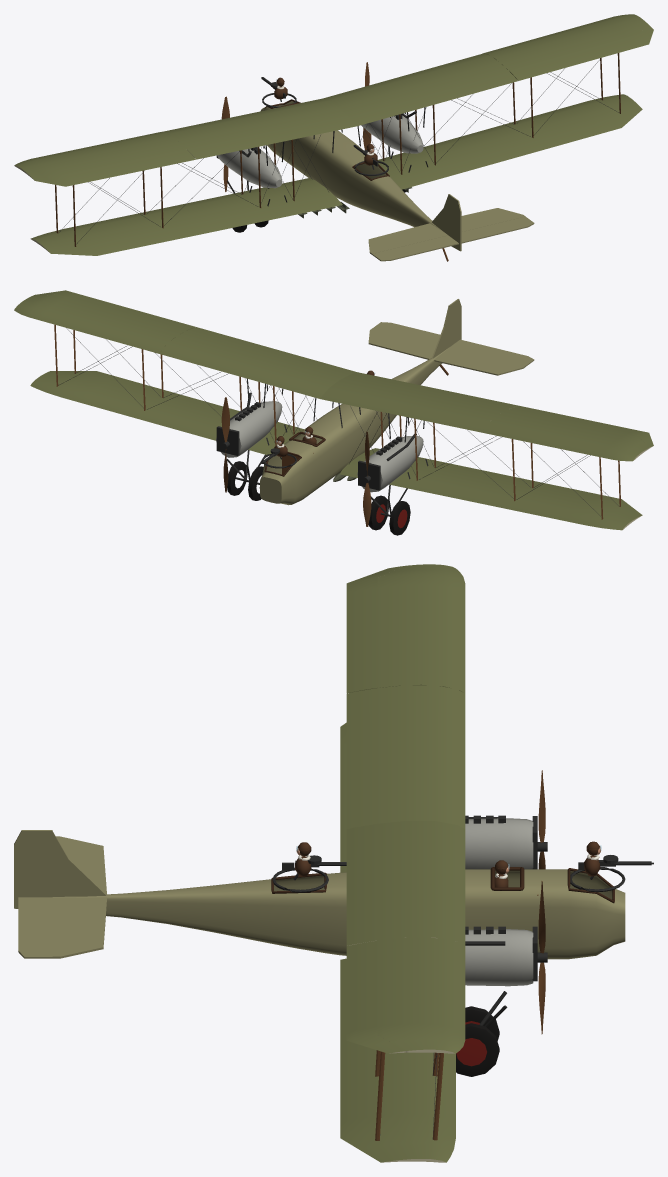
Rendered from aeg_giv.glb.
3 views of the same model, one above another, from view 1: azimuth 30°, elevation 25°; view 2: azimuth 150°, elevation 25°; view 3: azimuth 270°, elevation 25° (orthographic). The views are drawn at different scales.
Parts seen in each view (by area): view 1: Wing_Upper_R, Wing_Lower_L, Wing_Upper_L, Wing_Lower_R, Fuselage, Aileron_R, Aileron_L, Struts, Elevator, Engine_L, Engine_R, Wires (+3 smaller); view 2: Wing_Upper_R, Wing_Upper_L, Wing_Lower_L, Fuselage, Wing_Lower_R, Engine_R, Engine_L, Wheels, Struts, Elevator, Wires, Stabilizer_L (+8 smaller); view 3: Wing_Upper_L, Wing_Upper_R, Fuselage, Wing_Lower_R, Engine_R, Aileron_L, Engine_L, Aileron_R, Stabilizer_R, Rudder, Wheels, Elevator (+6 smaller).
Boxes of the visible parts, bbox=[...] form: Wing_Upper_R: bbox=[323, 14, 648, 125]; Wing_Lower_L: bbox=[30, 178, 342, 255]; Wing_Upper_L: bbox=[14, 98, 356, 176]; Wing_Lower_R: bbox=[377, 94, 642, 189]; Fuselage: bbox=[261, 101, 447, 234]; Aileron_R: bbox=[509, 24, 653, 80]; Aileron_L: bbox=[29, 149, 195, 186]; Struts: bbox=[55, 53, 620, 246]; Elevator: bbox=[372, 216, 534, 261]; Engine_L: bbox=[216, 141, 287, 206]; Engine_R: bbox=[361, 107, 428, 172]; Wires: bbox=[59, 58, 619, 244]; Wing_Upper_R: bbox=[14, 294, 356, 398]; Wing_Upper_L: bbox=[321, 372, 648, 461]; Wing_Lower_L: bbox=[340, 448, 642, 530]; Fuselage: bbox=[259, 348, 448, 505]; Wing_Lower_R: bbox=[30, 371, 303, 455]; Engine_R: bbox=[216, 378, 287, 457]; Engine_L: bbox=[357, 413, 428, 492]; Wheels: bbox=[227, 461, 410, 535]; Struts: bbox=[54, 324, 620, 519]; Elevator: bbox=[372, 322, 534, 366]; Wires: bbox=[58, 328, 619, 516]; Stabilizer_L: bbox=[434, 347, 525, 375]; Wing_Upper_L: bbox=[346, 564, 465, 828]; Wing_Upper_R: bbox=[346, 821, 465, 1053]; Fuselage: bbox=[53, 869, 625, 959]; Wing_Lower_R: bbox=[340, 958, 455, 1162]; Engine_R: bbox=[465, 926, 537, 986]; Aileron_L: bbox=[346, 566, 404, 693]; Engine_L: bbox=[465, 815, 537, 869]; Aileron_R: bbox=[346, 940, 405, 1053]; Stabilizer_R: bbox=[52, 897, 106, 958]; Rudder: bbox=[14, 830, 52, 908]; Wheels: bbox=[456, 1006, 499, 1076]; Elevator: bbox=[18, 897, 52, 958].
Bounding box in the file's own units: 18.4 × 3.68 × 10.25.
